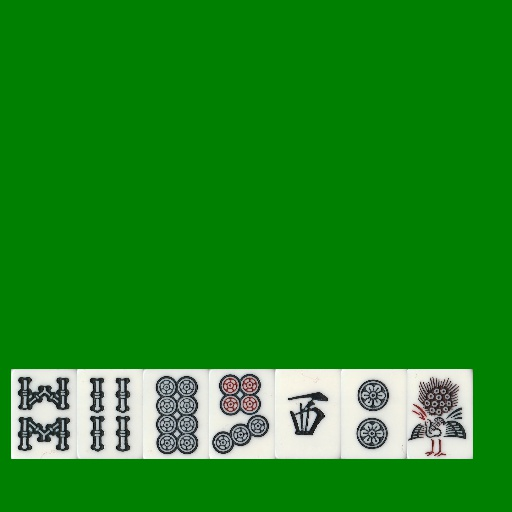1s: (407, 369, 473, 459)
2p: (341, 369, 407, 459)
4s: (77, 369, 143, 459)
7p: (209, 369, 275, 459)
8p: (143, 369, 209, 459)
8s: (11, 369, 77, 459)
west: (275, 369, 341, 459)
